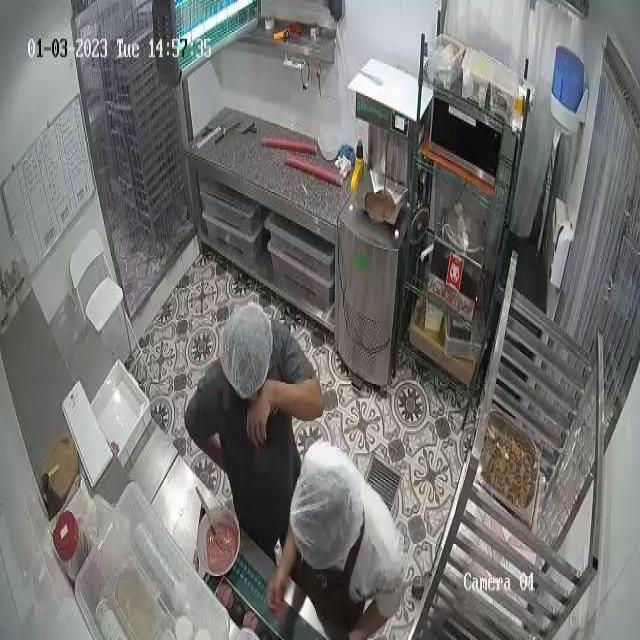hairnet: (292, 443, 361, 562), (226, 302, 270, 393)
